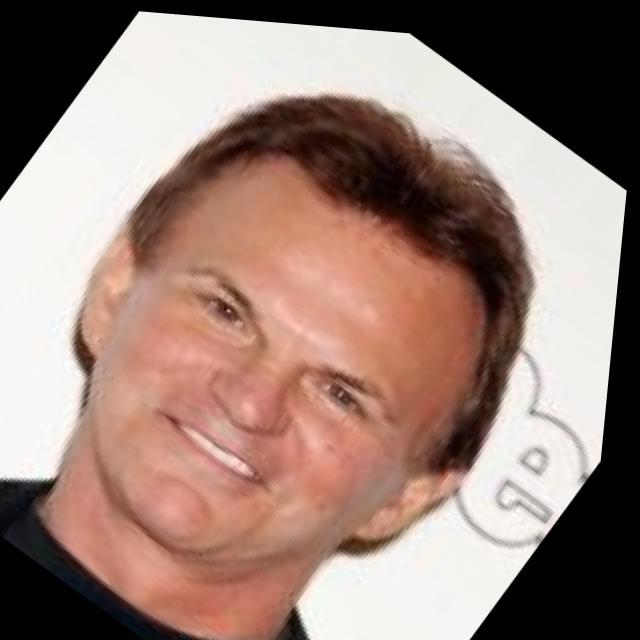Nonhelmet: (63, 90, 538, 573)
